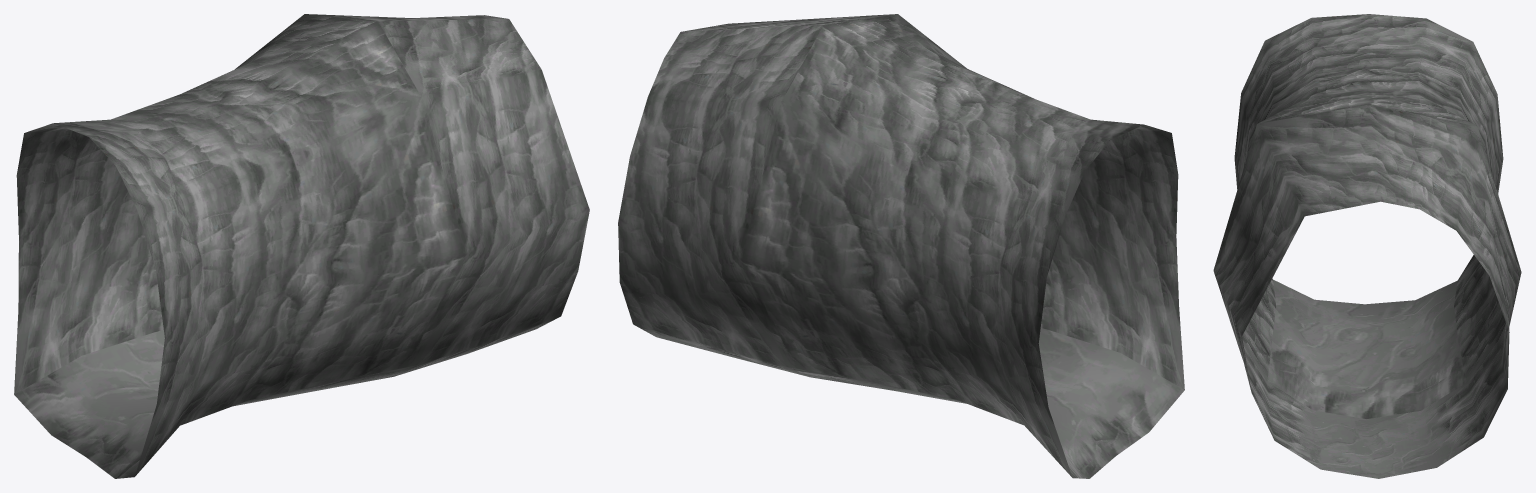
The model's file is SWORDLIGHT20_PS-AREA03_16.fbx.
The picture shows the model from 3 angles, left to right: view 1: azimuth 30°, elevation 25°; view 2: azimuth 150°, elevation 25°; view 3: azimuth 270°, elevation 25°; orthographic projection. The views are drawn at different scales.
Parts seen in each view (by area): view 1: SWORDLIGHT20_PS-AREA03_16; view 2: SWORDLIGHT20_PS-AREA03_16; view 3: SWORDLIGHT20_PS-AREA03_16.
Part boxes in pixels (bbox=[...]): SWORDLIGHT20_PS-AREA03_16: bbox=[14, 14, 589, 478]; SWORDLIGHT20_PS-AREA03_16: bbox=[618, 14, 1184, 478]; SWORDLIGHT20_PS-AREA03_16: bbox=[1213, 14, 1521, 478].
Bounding box in the file's own units: 94044 × 72192 × 58749.
3 materials, 3 textured.
